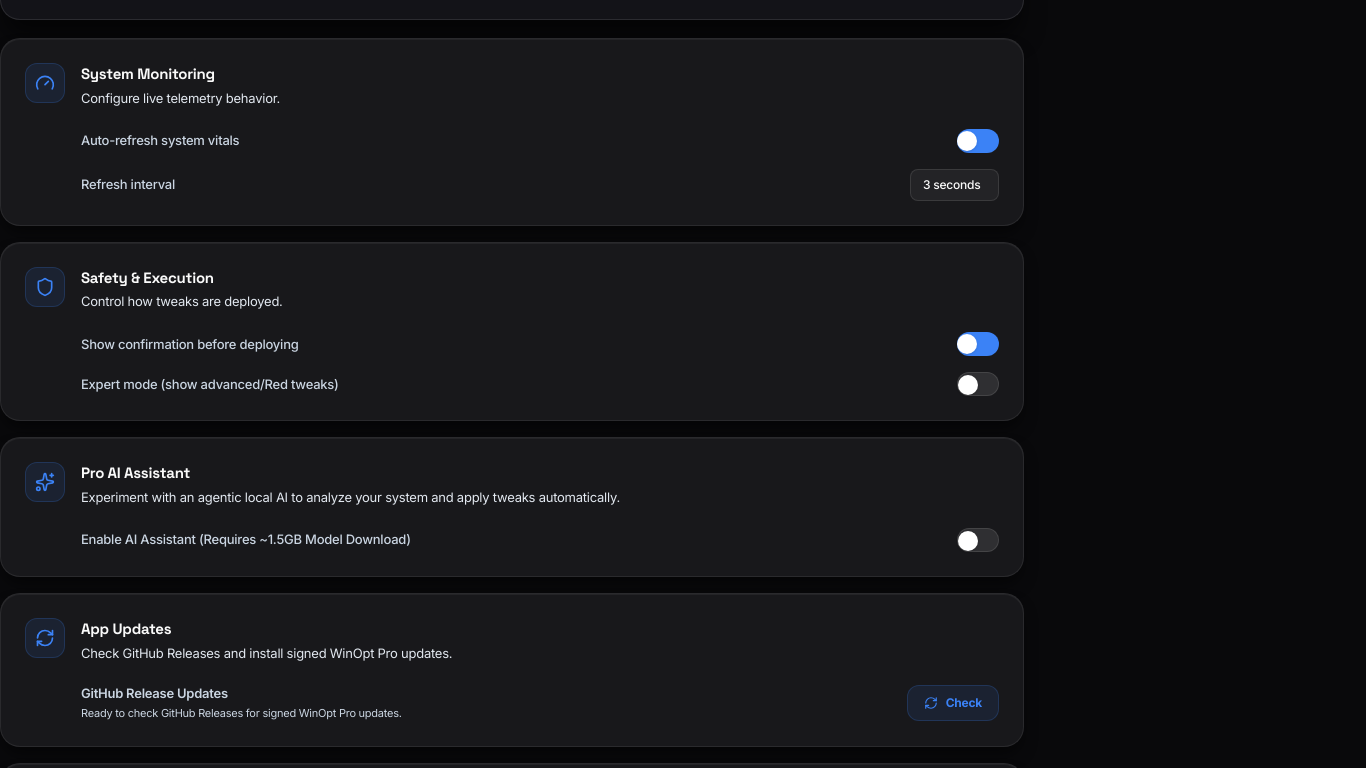
Test case: SettingsPage › Cancel in expert mode modal closes it without enabling
The width and height of the screenshot is (1366, 768).
(page scrolled)
Click the button named "expert mode" in the row of "Expert mode (show advanced/Red tweaks)".
click(978, 384)  # box [957,372,999,396]
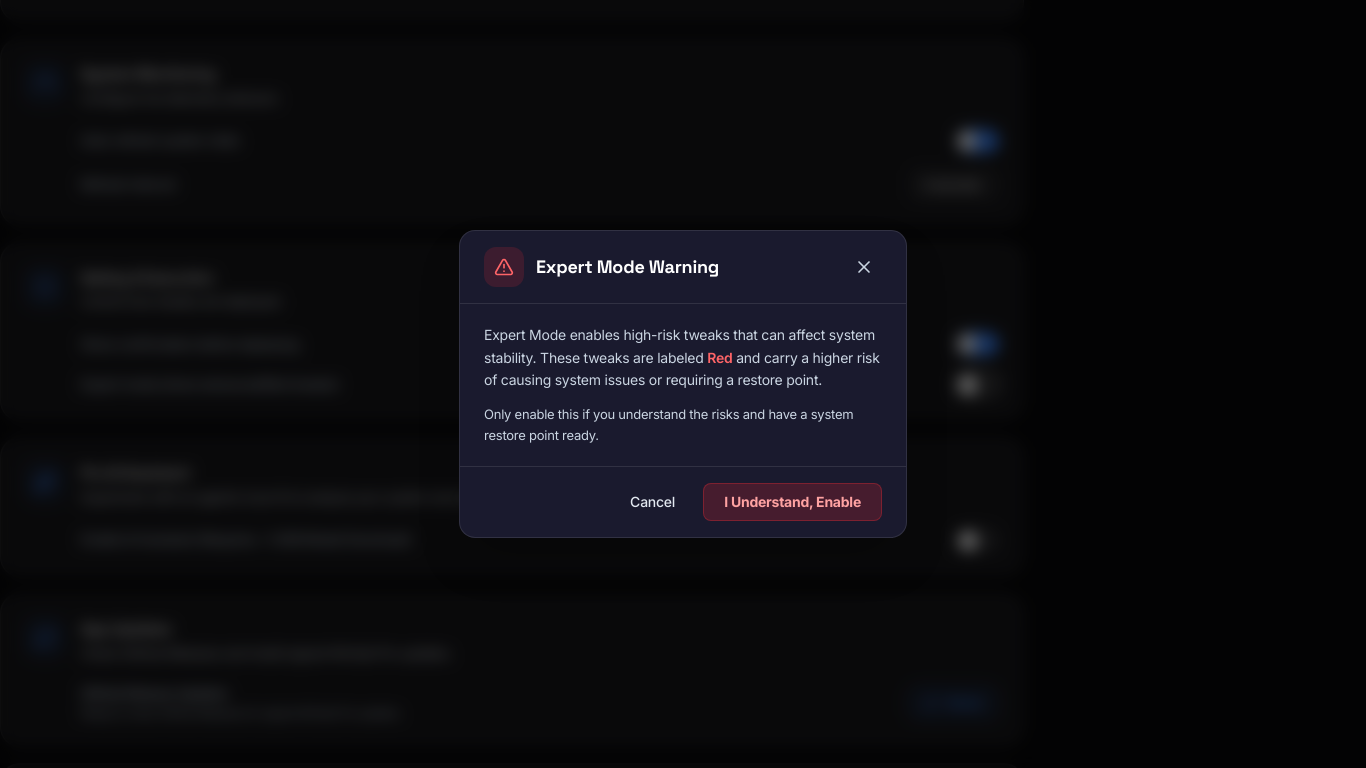
Check: the heading "Expert Mode Warning" is shown, box [536,253,719,281]
Click the button "Cancel".
click(653, 502)  # box [614,484,691,520]
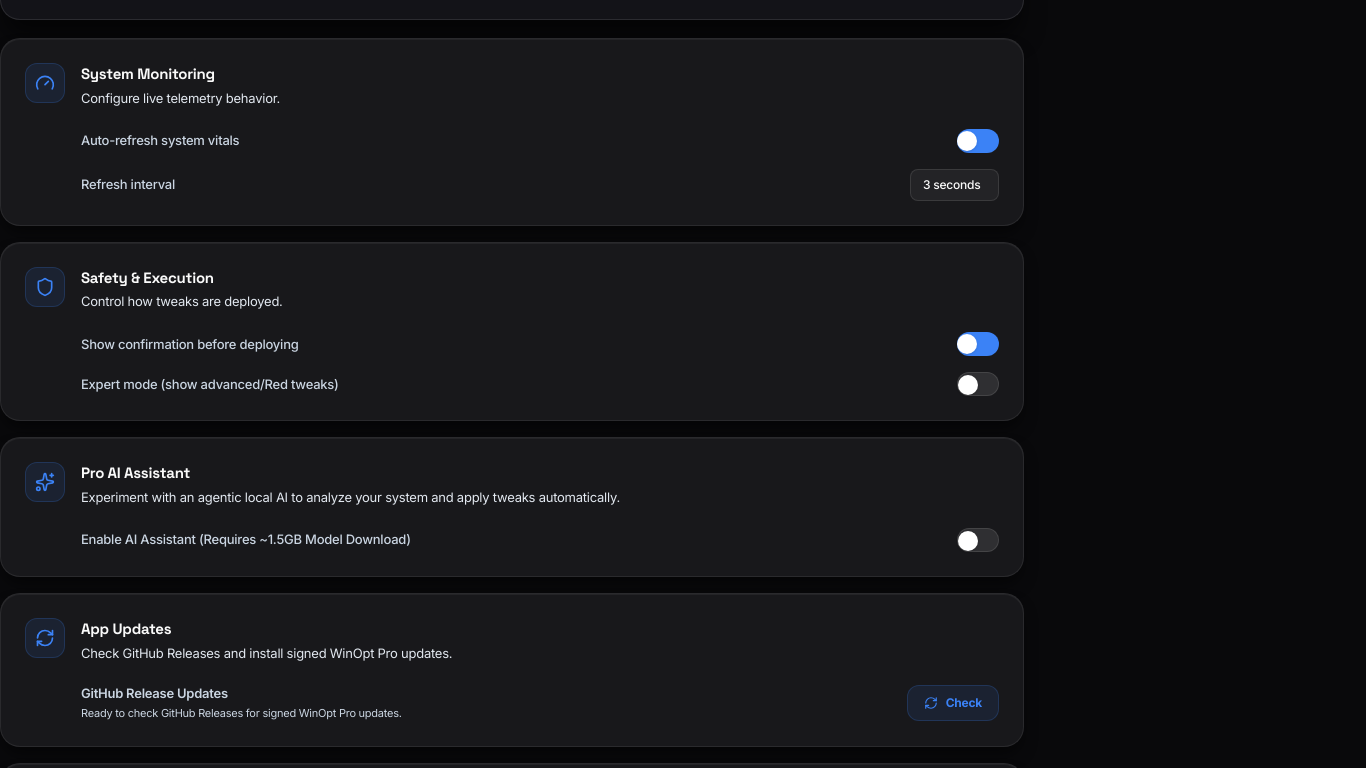
Check: the heading "Expert Mode Warning" is gone
